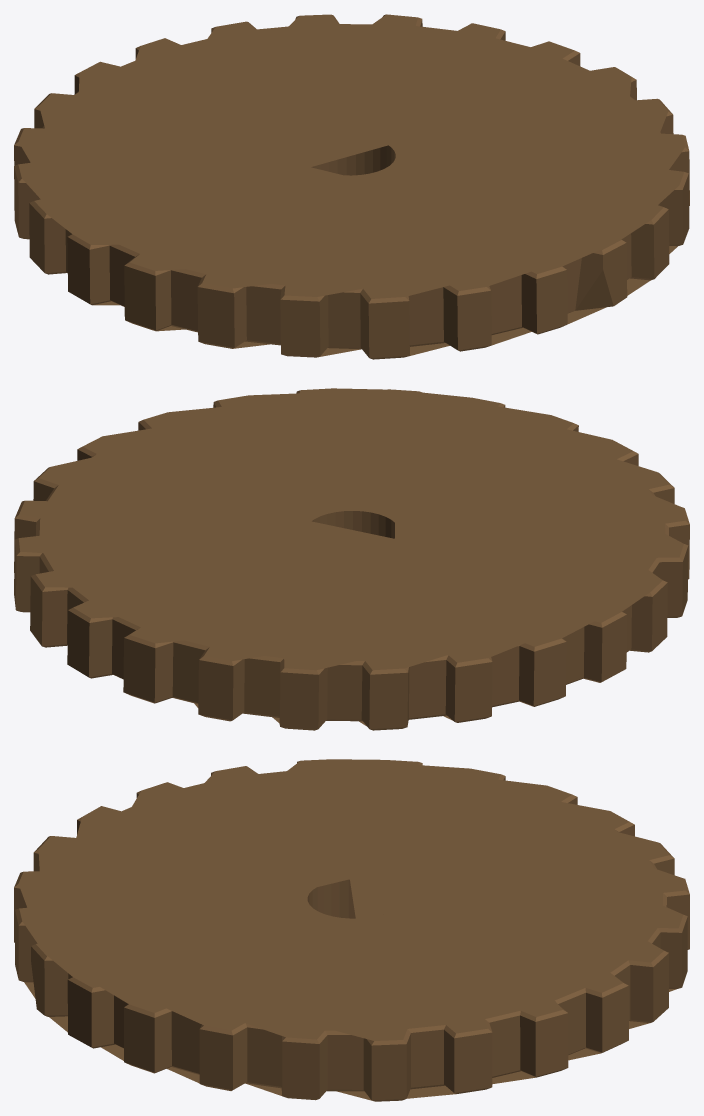
Rendered from single_gear.fbx.
3 renders of one model, top to bottom at view 1: azimuth 30°, elevation 25°; view 2: azimuth 150°, elevation 25°; view 3: azimuth 270°, elevation 25°, orthographic.
Visible parts, largest first — view 1: GearBig.017; view 2: GearBig.017; view 3: GearBig.017.
Boxes of the visible parts, x1,y1,x2,y2 form: GearBig.017: (14, 14, 689, 359); GearBig.017: (14, 388, 689, 730); GearBig.017: (14, 759, 689, 1101).
Size of the model in its own units: 20.02 by 2 by 20.02.
